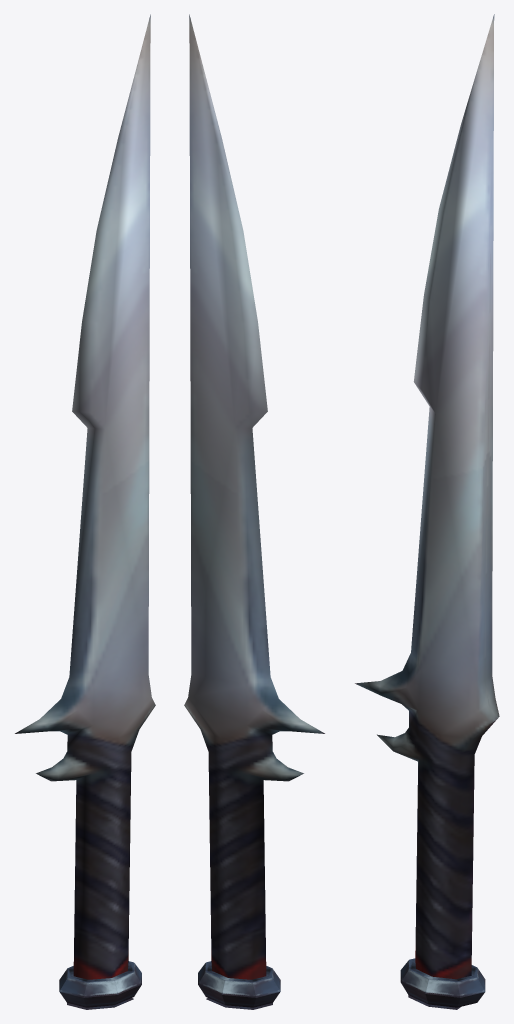
The model's file is youyingguici_dangewuqi.FBX.
3 renders of one model, left to right at view 1: azimuth 30°, elevation 25°; view 2: azimuth 150°, elevation 25°; view 3: azimuth 330°, elevation 25°, orthographic. The views are drawn at different scales.
Visible parts, largest first — view 1: youyingguici_dangewuqi; view 2: youyingguici_dangewuqi; view 3: youyingguici_dangewuqi.
Part boxes in pixels (<box>): youyingguici_dangewuqi: <box>15,14,155,1009</box>; youyingguici_dangewuqi: <box>184,14,324,1009</box>; youyingguici_dangewuqi: <box>355,14,499,1009</box>.
Bounding box in the file's own units: 14.35 × 95.81 × 6.17.
